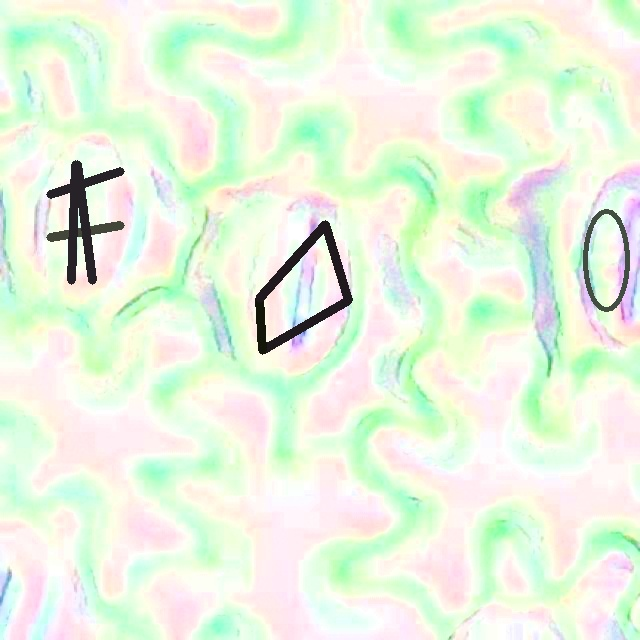close: (46, 160, 123, 284)
open: (255, 220, 352, 354), (583, 208, 630, 311)
